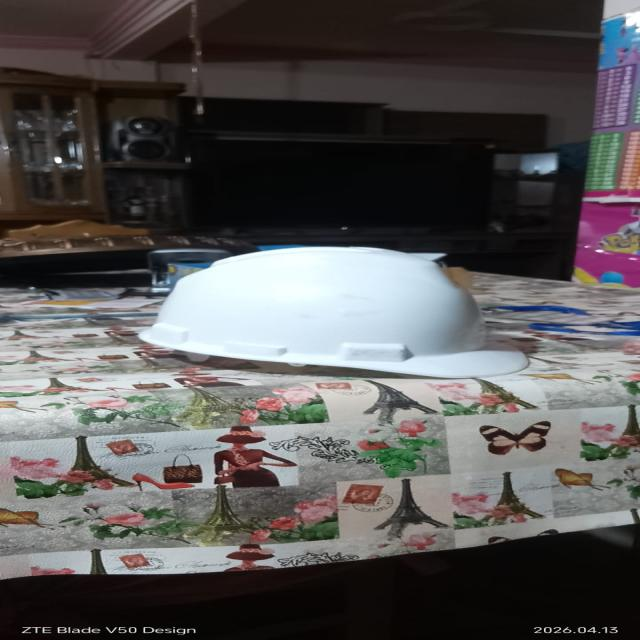casco: (124, 225, 550, 392)
